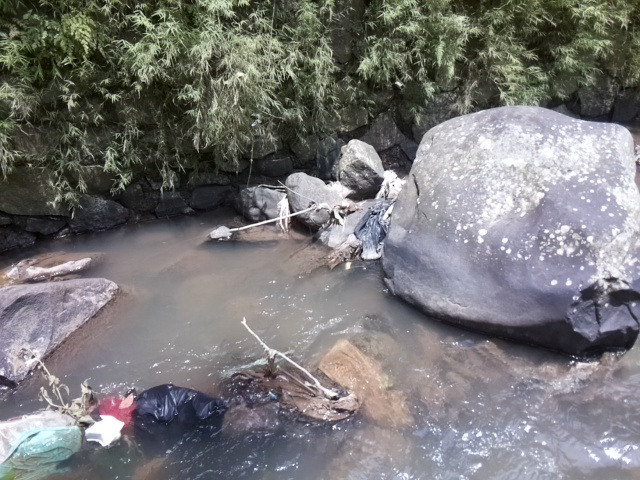Sampah_Plastik: (131, 384, 229, 447), (1, 408, 75, 474), (351, 200, 391, 263)
Sampah_Styrofoam: (84, 415, 125, 446)
